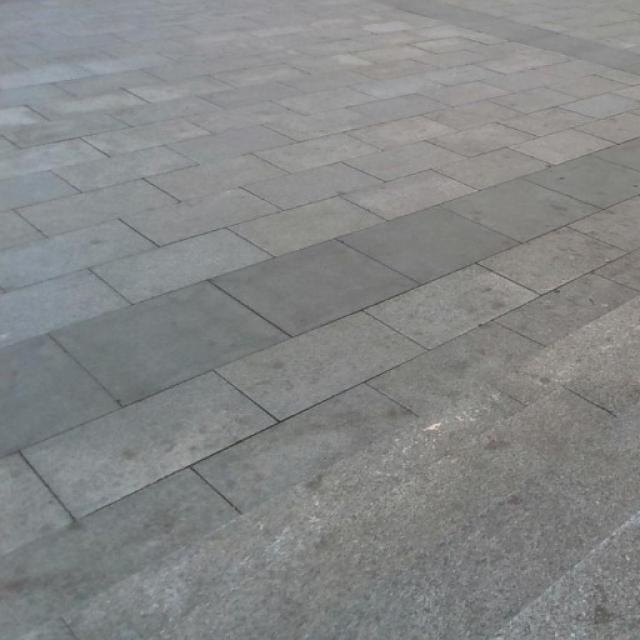stair: (258, 308, 632, 631)
